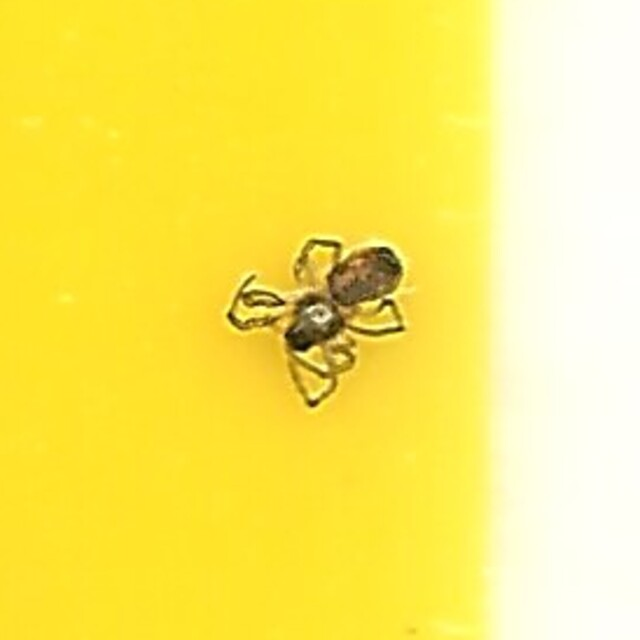Araneae: (234, 235, 406, 405)
